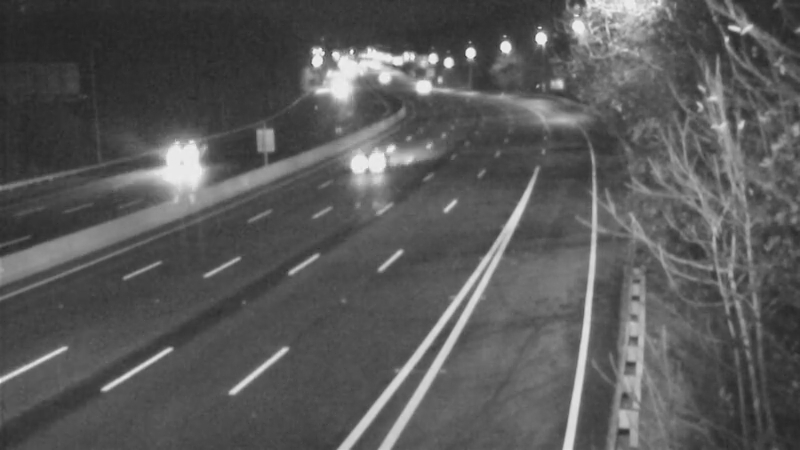vehicle: (334, 123, 414, 203), (138, 122, 218, 202), (399, 63, 449, 113)
